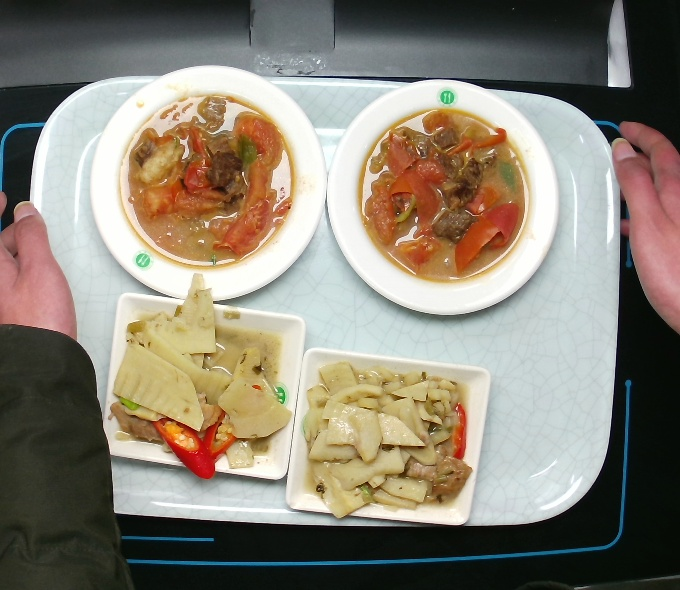wcq-DongSun: (106, 284, 296, 484), (301, 358, 477, 523)
wcq-FanQiwNiuRou: (345, 97, 538, 291), (117, 80, 310, 274)
